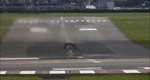maybay_muctieu: (57, 34, 81, 49)
